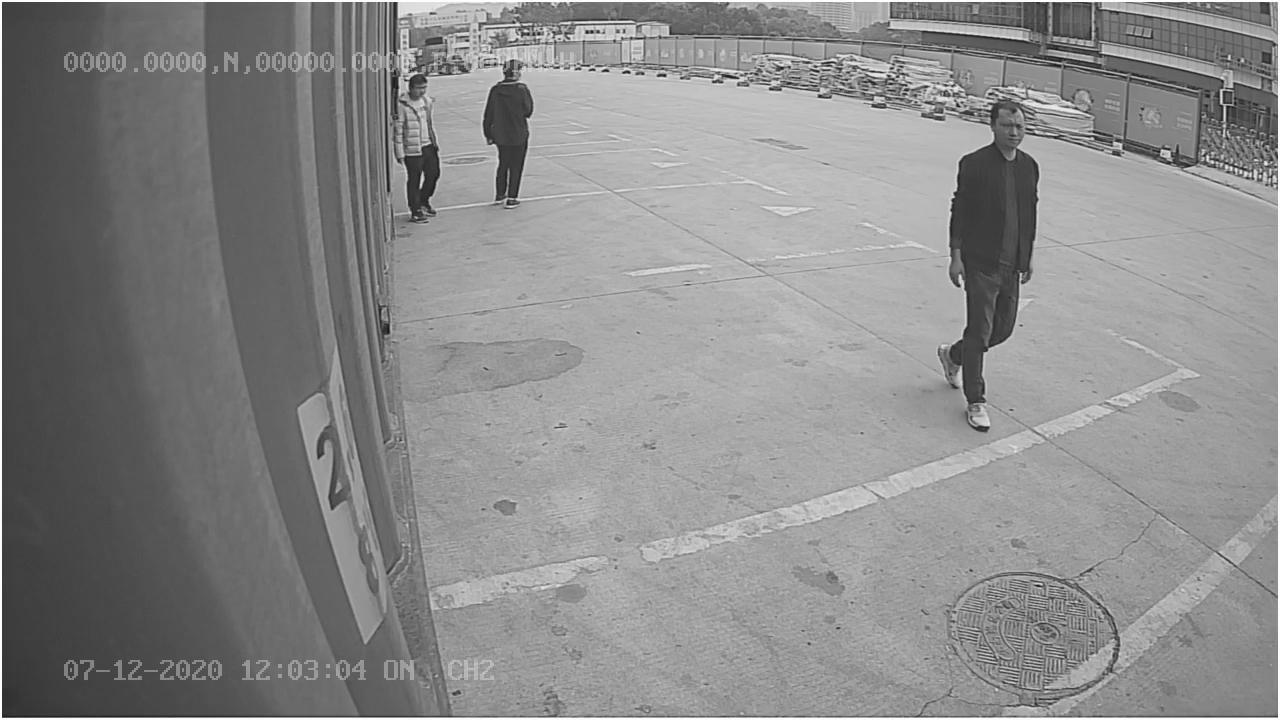person: (936, 86, 1047, 432)
